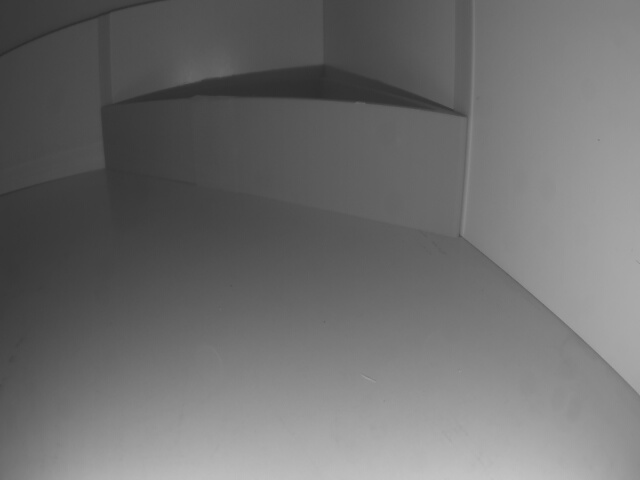Point: (102, 102, 462, 241)
